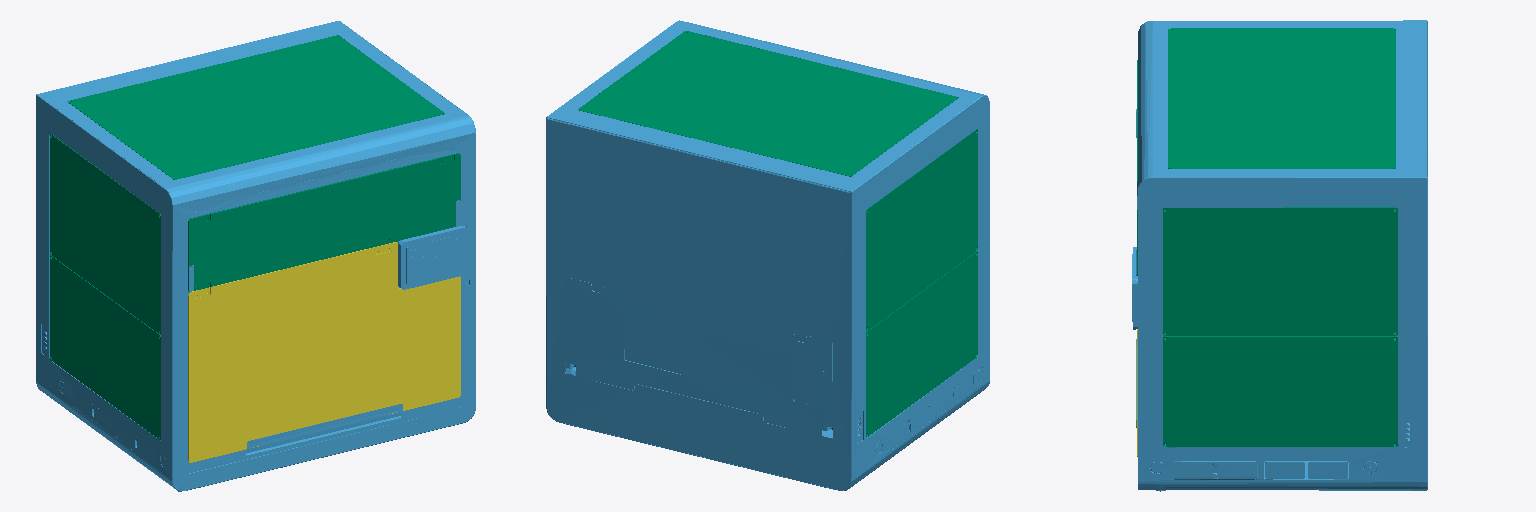
The robot description file, URDF, robot "opentrons_flex_8channel_photo_reference":
<?xml version='1.0' encoding='utf-8'?>
<robot name="opentrons_flex_8channel_photo_reference">
  <!--
Visual assembly derived from user-supplied flex-model.glb, SHA256 b3280f704c6f28663ba9252d310747a512ca6a8e8504e33dd16676b0b15078fe.
Source GLB identifies a FLEX TOP LEVEL ASSEMBLY WITH STAGING SLOT SAMPLE.STEP conversion.
Original author/license not supplied; this is not a claim of manufacturer-certified CAD.
Converted glTF Y-up to URDF Z-up, retaining source scale and neutral component positions.
Geometry split into fixed chassis, windows, folding door, gantry and carriage.
The missing lower-right window mirrors the supplied lower-left window.
Deck plates, recessed handles, one blue and three clear locators per slot, black waste bin,
8-channel pipette and adjacent gripper reconstructed from user Photo 1-7, 2026-10-24.
Optional staging pads from the source CAD are omitted to match this photographed configuration.
Unmeasured dimensions, including gripper geometry and travel, are visual estimates.
The incomplete source deck fixtures were removed to avoid overlapping or duplicate surfaces.
Deck pitch 164 x 107 mm: https://github.com/Opentrons/opentrons/blob/edge/shared-data/deck/definitions/3/ot3_standard.json
Envelope approximately 872.85 x 690.96 x 839.90 mm; source CAD tessellation retained.
Joint travel, hinge axes, collision boxes and pipette dimensions are approximations, not calibration data.
Mass distribution is unknown: dynamics omitted, effort/velocity zero disables uncalibrated actuation.
Revised 2026-10-24. Previous ChemLab visual geometry is replaced, not relabeled as manufacturer CAD.
-->
  <link name="asset_root" />
  <link name="chassis">
    <visual>
      <geometry>
        <mesh filename="meshes/cad_chassis.obj" />
      </geometry>
    </visual>
    <collision>
      <origin xyz="0 0 0.08" />
      <geometry>
        <box size="0.85 0.67 0.14" />
      </geometry>
    </collision>
    <collision>
      <origin xyz="0 0.322 0.5" />
      <geometry>
        <box size="0.85 0.04 0.65" />
      </geometry>
    </collision>
    <collision>
      <origin xyz="-0.41 -0.307 0.48" />
      <geometry>
        <box size="0.05 0.06 0.71" />
      </geometry>
    </collision>
    <collision>
      <origin xyz="-0.41 0.307 0.48" />
      <geometry>
        <box size="0.05 0.06 0.71" />
      </geometry>
    </collision>
    <collision>
      <origin xyz="0.41 -0.307 0.48" />
      <geometry>
        <box size="0.05 0.06 0.71" />
      </geometry>
    </collision>
    <collision>
      <origin xyz="0.41 0.307 0.48" />
      <geometry>
        <box size="0.05 0.06 0.71" />
      </geometry>
    </collision>
    <collision>
      <origin xyz="0 -0.31 0.81" />
      <geometry>
        <box size="0.85 0.06 0.06" />
      </geometry>
    </collision>
    <collision>
      <origin xyz="0 0.31 0.81" />
      <geometry>
        <box size="0.85 0.06 0.06" />
      </geometry>
    </collision>
  </link>
  <joint name="chassis_joint" type="fixed">
    <parent link="asset_root" />
    <child link="chassis" />
    <origin xyz="0 0 0" rpy="0 0 0" />
  </joint>
  <link name="windows">
    <visual>
      <geometry>
        <mesh filename="meshes/cad_windows.obj" />
      </geometry>
    </visual>
    <collision>
      <origin xyz="-0.433 0 0.45" />
      <geometry>
        <box size="0.005 0.55 0.62" />
      </geometry>
    </collision>
    <collision>
      <origin xyz="0.433 0 0.45" />
      <geometry>
        <box size="0.005 0.55 0.62" />
      </geometry>
    </collision>
  </link>
  <joint name="windows_joint" type="fixed">
    <parent link="asset_root" />
    <child link="windows" />
    <origin xyz="0 0 0" rpy="0 0 0" />
  </joint>
  <link name="gantry_y">
    <visual>
      <geometry>
        <mesh filename="meshes/cad_gantry.obj" />
      </geometry>
    </visual>
    <collision>
      <origin xyz="0 0 0" />
      <geometry>
        <box size="0.77 0.05 0.145" />
      </geometry>
    </collision>
  </link>
  <joint name="gantry_y_joint" type="prismatic">
    <parent link="asset_root" />
    <child link="gantry_y" />
    <origin xyz="0 0 0.51" rpy="0 0 0" />
    <axis xyz="0 1 0" />
    <limit lower="-0.1" upper="0.22" effort="0" velocity="0" />
  </joint>
  <link name="carriage_x">
    <visual>
      <geometry>
        <mesh filename="meshes/cad_carriage.obj" />
      </geometry>
    </visual>
    <collision>
      <origin xyz="0 -0.02 0.1" />
      <geometry>
        <box size="0.18 0.12 0.4" />
      </geometry>
    </collision>
  </link>
  <joint name="carriage_x_joint" type="prismatic">
    <parent link="gantry_y" />
    <child link="carriage_x" />
    <origin xyz="0 0 0" rpy="0 0 0" />
    <axis xyz="1 0 0" />
    <limit lower="-0.28" upper="0.24" effort="0" velocity="0" />
  </joint>
  <link name="carriage_z">
    <visual>
      <geometry>
        <mesh filename="meshes/pipette_8channel.obj" />
      </geometry>
    </visual>
    <collision>
      <origin xyz="0 0 0.02" />
      <geometry>
        <box size="0.065 0.095 0.365" />
      </geometry>
    </collision>
  </link>
  <joint name="carriage_z_joint" type="prismatic">
    <parent link="carriage_x" />
    <child link="carriage_z" />
    <origin xyz="-0.038 -0.113 0.09" rpy="0 0 0" />
    <axis xyz="0 0 -1" />
    <limit lower="0" upper="0.2" effort="0" velocity="0" />
  </joint>
  <link name="gripper">
    <visual>
      <geometry>
        <mesh filename="meshes/gripper_body.obj" />
      </geometry>
    </visual>
    <collision>
      <origin xyz="0 0 0.024" />
      <geometry>
        <box size="0.057 0.108 0.338" />
      </geometry>
    </collision>
  </link>
  <joint name="gripper_z_joint" type="prismatic">
    <parent link="carriage_x" />
    <child link="gripper" />
    <origin xyz="0.105 -0.105 0.09" rpy="0 0 0" />
    <axis xyz="0 0 -1" />
    <limit lower="0" upper="0.14" effort="0" velocity="0" />
  </joint>
  <link name="gripper_front">
    <visual>
      <geometry>
        <mesh filename="meshes/gripper_front.obj" />
      </geometry>
    </visual>
    <collision>
      <origin xyz="0 -0.045 -0.211" />
      <geometry>
        <box size="0.037 0.028 0.133" />
      </geometry>
    </collision>
  </link>
  <joint name="gripper_front_joint" type="fixed">
    <parent link="gripper" />
    <child link="gripper_front" />
    <origin xyz="0 0 0" rpy="0 0 0" />
  </joint>
  <link name="gripper_rear">
    <visual>
      <geometry>
        <mesh filename="meshes/gripper_rear.obj" />
      </geometry>
    </visual>
    <collision>
      <origin xyz="0 0.045 -0.211" />
      <geometry>
        <box size="0.037 0.028 0.133" />
      </geometry>
    </collision>
  </link>
  <joint name="gripper_rear_joint" type="fixed">
    <parent link="gripper" />
    <child link="gripper_rear" />
    <origin xyz="0 0 0" rpy="0 0 0" />
  </joint>
  <link name="waste_bin">
    <visual>
      <geometry>
        <mesh filename="meshes/waste_bin.obj" />
      </geometry>
    </visual>
    <collision>
      <origin xyz="0 0 0.021" />
      <geometry>
        <box size="0.215 0.087 0.043" />
      </geometry>
    </collision>
  </link>
  <joint name="waste_bin_joint" type="fixed">
    <parent link="asset_root" />
    <child link="waste_bin" />
    <origin xyz="0.18 0.115 0.17" rpy="0 0 0" />
  </joint>
  <link name="front_door_upper">
    <visual>
      <geometry>
        <mesh filename="meshes/door_upper.obj" />
      </geometry>
    </visual>
    <collision>
      <origin xyz="0 0 -0.102" />
      <geometry>
        <box size="0.778 0.006 0.204" />
      </geometry>
    </collision>
  </link>
  <joint name="front_door_lift_joint" type="revolute">
    <parent link="asset_root" />
    <child link="front_door_upper" />
    <origin xyz="0 -0.333 0.761" rpy="0 0 0" />
    <axis xyz="-1 0 0" />
    <limit lower="0" upper="1.57" effort="0" velocity="0" />
  </joint>
  <link name="front_door_lower">
    <visual>
      <geometry>
        <mesh filename="meshes/door_lower.obj" />
      </geometry>
    </visual>
    <collision>
      <origin xyz="0 0 -0.232" />
      <geometry>
        <box size="0.778 0.006 0.468" />
      </geometry>
    </collision>
  </link>
  <joint name="front_door_fold_joint" type="revolute">
    <parent link="front_door_upper" />
    <child link="front_door_lower" />
    <origin xyz="0 0 -0.204" rpy="0 0 0" />
    <axis xyz="-1 0 0" />
    <limit lower="0" upper="3.14" effort="0" velocity="0" />
  </joint>
  <link name="deck_base">
    <visual>
      <geometry>
        <mesh filename="meshes/deck_base.obj" />
      </geometry>
    </visual>
    <collision>
      <origin xyz="0 -0.016 0.158" />
      <geometry>
        <box size="0.847 0.614 0.014" />
      </geometry>
    </collision>
  </link>
  <joint name="deck_base_joint" type="fixed">
    <parent link="asset_root" />
    <child link="deck_base" />
    <origin xyz="0 0 0" rpy="0 0 0" />
  </joint>
  <link name="slot_d1">
    <visual>
      <geometry>
        <mesh filename="meshes/deck_left.obj" />
      </geometry>
    </visual>
    <collision>
      <origin xyz="-0.041 0 0.008" />
      <geometry>
        <box size="0.244 0.106 0.028" />
      </geometry>
    </collision>
  </link>
  <joint name="slot_d1_joint" type="fixed">
    <parent link="asset_root" />
    <child link="slot_d1" />
    <origin xyz="-0.177 -0.206 0.169" rpy="0 0 0" />
  </joint>
  <link name="slot_d2">
    <visual>
      <geometry>
        <mesh filename="meshes/deck_insert.obj" />
      </geometry>
    </visual>
    <collision>
      <origin xyz="0 0 0.008" />
      <geometry>
        <box size="0.162 0.106 0.028" />
      </geometry>
    </collision>
  </link>
  <joint name="slot_d2_joint" type="fixed">
    <parent link="asset_root" />
    <child link="slot_d2" />
    <origin xyz="-0.012999999999999984 -0.206 0.169" rpy="0 0 0" />
  </joint>
  <link name="slot_d3">
    <visual>
      <geometry>
        <mesh filename="meshes/deck_right.obj" />
      </geometry>
    </visual>
    <collision>
      <origin xyz="0.054 0 0.008" />
      <geometry>
        <box size="0.27 0.106 0.028" />
      </geometry>
    </collision>
  </link>
  <joint name="slot_d3_joint" type="fixed">
    <parent link="asset_root" />
    <child link="slot_d3" />
    <origin xyz="0.15100000000000002 -0.206 0.169" rpy="0 0 0" />
  </joint>
  <link name="slot_c1">
    <visual>
      <geometry>
        <mesh filename="meshes/deck_left.obj" />
      </geometry>
    </visual>
    <collision>
      <origin xyz="-0.041 0 0.008" />
      <geometry>
        <box size="0.244 0.106 0.028" />
      </geometry>
    </collision>
  </link>
  <joint name="slot_c1_joint" type="fixed">
    <parent link="asset_root" />
    <child link="slot_c1" />
    <origin xyz="-0.177 -0.09899999999999999 0.169" rpy="0 0 0" />
  </joint>
  <link name="slot_c2">
    <visual>
      <geometry>
        <mesh filename="meshes/deck_insert.obj" />
      </geometry>
    </visual>
    <collision>
      <origin xyz="0 0 0.008" />
      <geometry>
        <box size="0.162 0.106 0.028" />
      </geometry>
    </collision>
  </link>
  <joint name="slot_c2_joint" type="fixed">
    <parent link="asset_root" />
    <child link="slot_c2" />
    <origin xyz="-0.012999999999999984 -0.09899999999999999 0.169" rpy="0 0 0" />
  </joint>
  <link name="slot_c3">
    <visual>
      <geometry>
        <mesh filename="meshes/deck_right.obj" />
      </geometry>
    </visual>
    <collision>
      <origin xyz="0.054 0 0.008" />
      <geometry>
        <box size="0.27 0.106 0.028" />
      </geometry>
    </collision>
  </link>
  <joint name="slot_c3_joint" type="fixed">
    <parent link="asset_root" />
    <child link="slot_c3" />
    <origin xyz="0.15100000000000002 -0.09899999999999999 0.169" rpy="0 0 0" />
  </joint>
  <link name="slot_b1">
    <visual>
      <geometry>
        <mesh filename="meshes/deck_left.obj" />
      </geometry>
    </visual>
    <collision>
      <origin xyz="-0.041 0 0.008" />
      <geometry>
        <box size="0.244 0.106 0.028" />
      </geometry>
    </collision>
  </link>
  <joint name="slot_b1_joint" type="fixed">
    <parent link="asset_root" />
    <child link="slot_b1" />
    <origin xyz="-0.177 0.008000000000000007 0.169" rpy="0 0 0" />
  </joint>
  <link name="slot_b2">
    <visual>
      <geometry>
        <mesh filename="meshes/deck_insert.obj" />
      </geometry>
    </visual>
    <collision>
      <origin xyz="0 0 0.008" />
      <geometry>
        <box size="0.162 0.106 0.028" />
      </geometry>
    </collision>
  </link>
  <joint name="slot_b2_joint" type="fixed">
    <parent link="asset_root" />
    <child link="slot_b2" />
    <origin xyz="-0.012999999999999984 0.008000000000000007 0.169" rpy="0 0 0" />
  </joint>
  <link name="slot_b3">
    <visual>
      <geometry>
        <mesh filename="meshes/deck_right.obj" />
      </geometry>
    </visual>
    <collision>
      <origin xyz="0.054 0 0.008" />
      <geometry>
        <box size="0.27 0.106 0.028" />
      </geometry>
    </collision>
  </link>
  <joint name="slot_b3_joint" type="fixed">
    <parent link="asset_root" />
    <child link="slot_b3" />
    <origin xyz="0.15100000000000002 0.008000000000000007 0.169" rpy="0 0 0" />
  </joint>
  <link name="slot_a1">
    <visual>
      <geometry>
        <mesh filename="meshes/deck_left.obj" />
      </geometry>
    </visual>
    <collision>
      <origin xyz="-0.041 0 0.008" />
      <geometry>
        <box size="0.244 0.106 0.028" />
      </geometry>
    </collision>
  </link>
  <joint name="slot_a1_joint" type="fixed">
    <parent link="asset_root" />
    <child link="slot_a1" />
    <origin xyz="-0.177 0.11500000000000002 0.169" rpy="0 0 0" />
  </joint>
  <link name="slot_a2">
    <visual>
      <geometry>
        <mesh filename="meshes/deck_insert.obj" />
      </geometry>
    </visual>
    <collision>
      <origin xyz="0 0 0.008" />
      <geometry>
        <box size="0.162 0.106 0.028" />
      </geometry>
    </collision>
  </link>
  <joint name="slot_a2_joint" type="fixed">
    <parent link="asset_root" />
    <child link="slot_a2" />
    <origin xyz="-0.012999999999999984 0.11500000000000002 0.169" rpy="0 0 0" />
  </joint>
  <link name="slot_a3">
    <visual>
      <geometry>
        <mesh filename="meshes/deck_right.obj" />
      </geometry>
    </visual>
    <collision>
      <origin xyz="0.054 0 0.008" />
      <geometry>
        <box size="0.27 0.106 0.028" />
      </geometry>
    </collision>
  </link>
  <joint name="slot_a3_joint" type="fixed">
    <parent link="asset_root" />
    <child link="slot_a3" />
    <origin xyz="0.15100000000000002 0.11500000000000002 0.169" rpy="0 0 0" />
  </joint>
</robot>

--- What the picture shows (computed from the rendered views, not written in the file) ---
3 views of the same robot in one strip: view 1: azimuth 30°, elevation 25°; view 2: azimuth 150°, elevation 25°; view 3: azimuth 270°, elevation 25° (orthographic).
Model opentrons_flex_8channel_photo_reference with 25 links and 24 joints (2 revolute, 4 prismatic, 18 fixed), rooted at asset_root, posed every joint at zero.
Links seen in each view (by area): view 1: chassis, windows, front_door_lower, front_door_upper; view 2: chassis, windows; view 3: windows, chassis.
Link boxes in pixels (left/top/right/bottom): chassis: left=36, top=21, right=475, bottom=491; windows: left=50, top=35, right=444, bottom=439; front_door_lower: left=188, top=242, right=460, bottom=462; front_door_upper: left=188, top=153, right=460, bottom=292; chassis: left=546, top=20, right=989, bottom=490; windows: left=578, top=31, right=977, bottom=436; windows: left=1163, top=28, right=1397, bottom=446; chassis: left=1132, top=20, right=1427, bottom=491.
Size in the robot's own frame: 0.8728 by 0.6918 by 0.8399 metres.
24 mesh visuals loaded from 15 distinct referenced files (15 OBJ).
